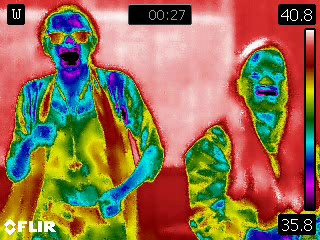human: (6, 6, 168, 240), (183, 36, 304, 238)
